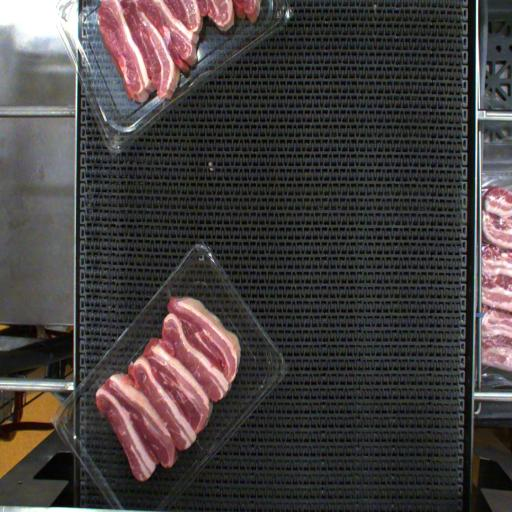packaging-error: (162, 285, 174, 299)
